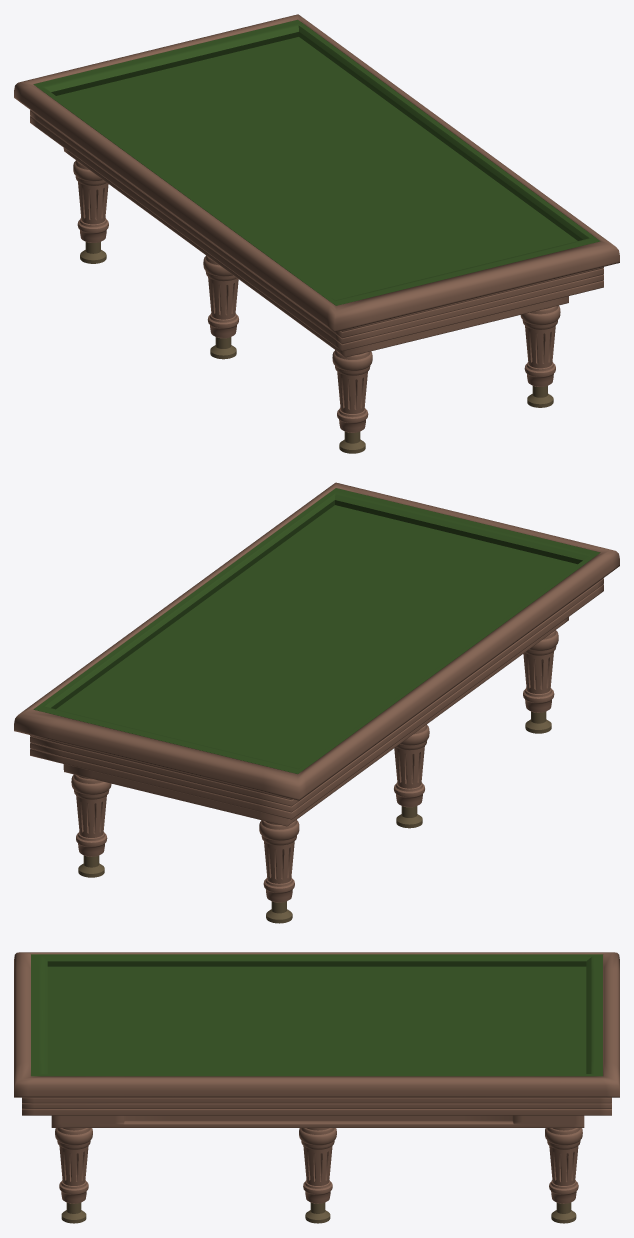
File: carom.fbx
3 renders of one model, top to bottom at view 1: azimuth 30°, elevation 25°; view 2: azimuth 150°, elevation 25°; view 3: azimuth 270°, elevation 25°, orthographic. The views are drawn at different scales.
Parts seen in each view (by area): view 1: Default.022; view 2: Default.022; view 3: Default.022.
Part boxes in pixels (x1,y1,x2,y2): Default.022: (14,14,619,453); Default.022: (14,482,619,923); Default.022: (14,952,619,1223).
Bounding box in the file's own units: 16.09 × 9.07 × 31.3.
